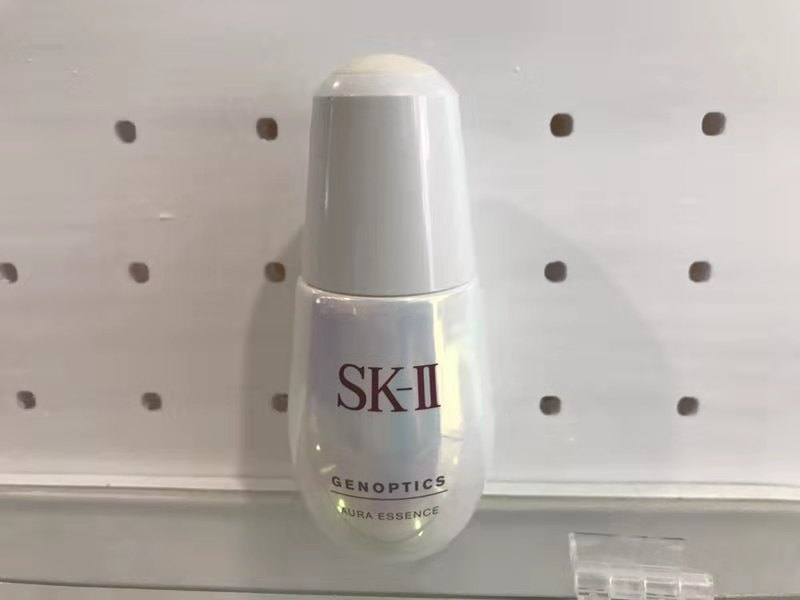sk2: (272, 44, 510, 578)
